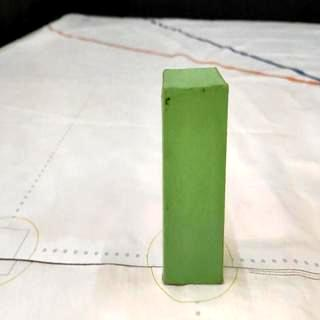greenbox: (160, 67, 230, 286)
